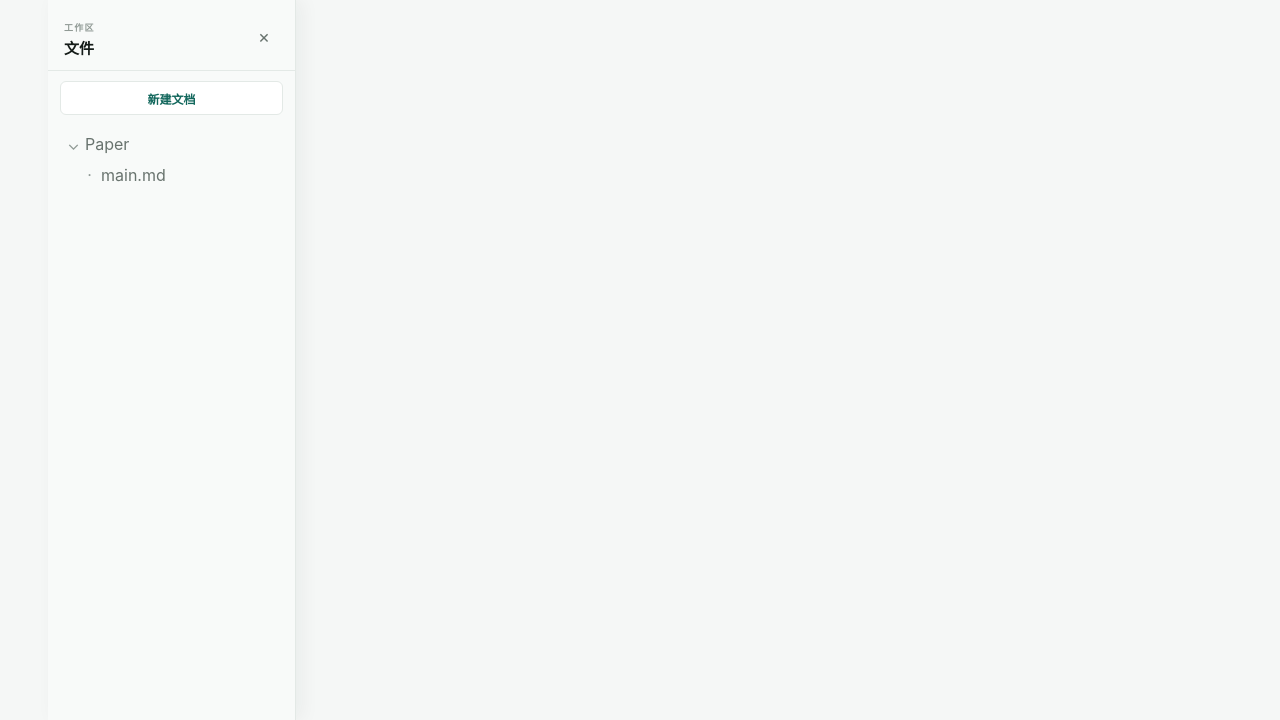
Test: file panel › validates new document paths before submitting
Click the button "新建文档": x=172, y=98 [60,81,283,115]
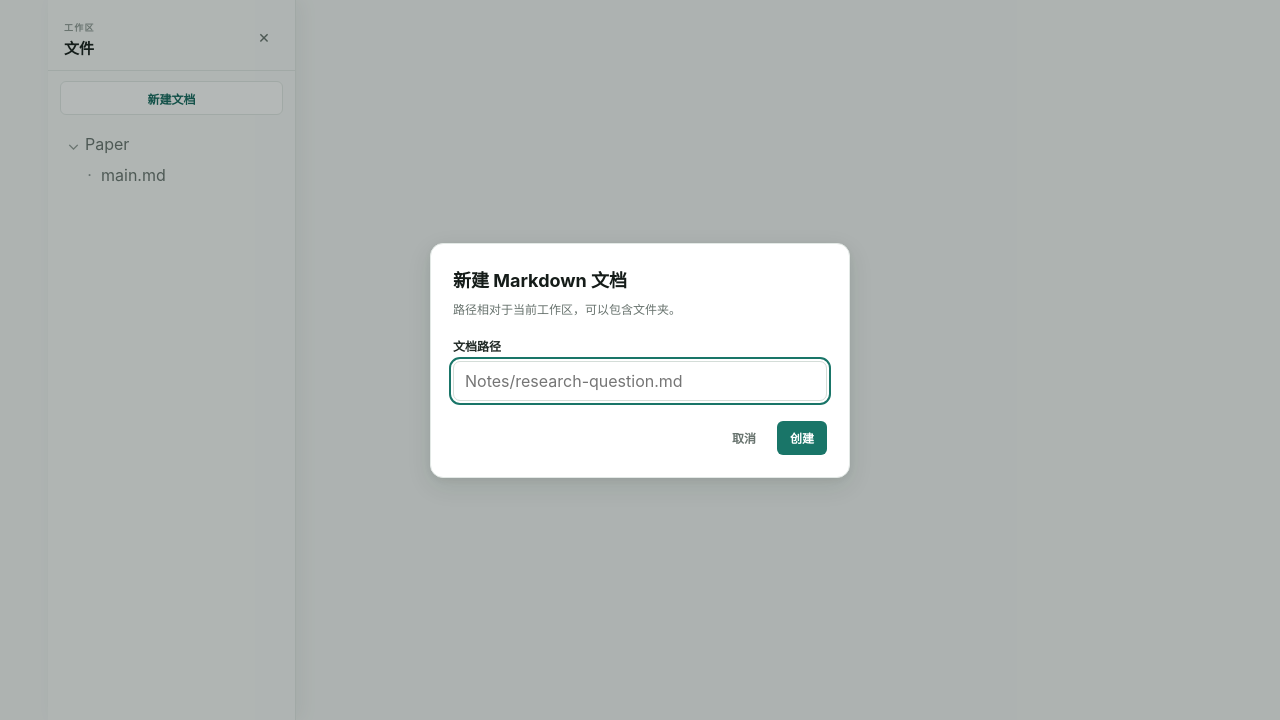
In the field labelled "文档路径": x=640, y=380 [453,360,827,400], type "../outside.md"
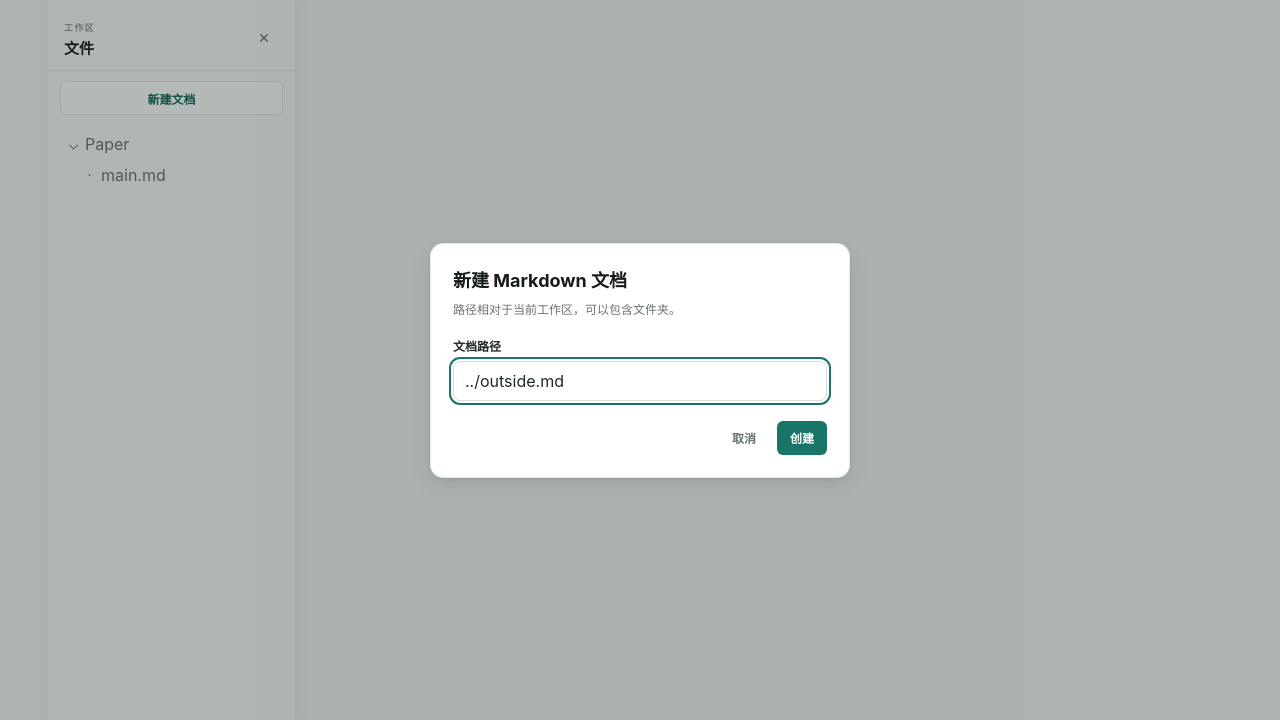
Click the button "创建": x=802, y=438 [777,420,827,454]
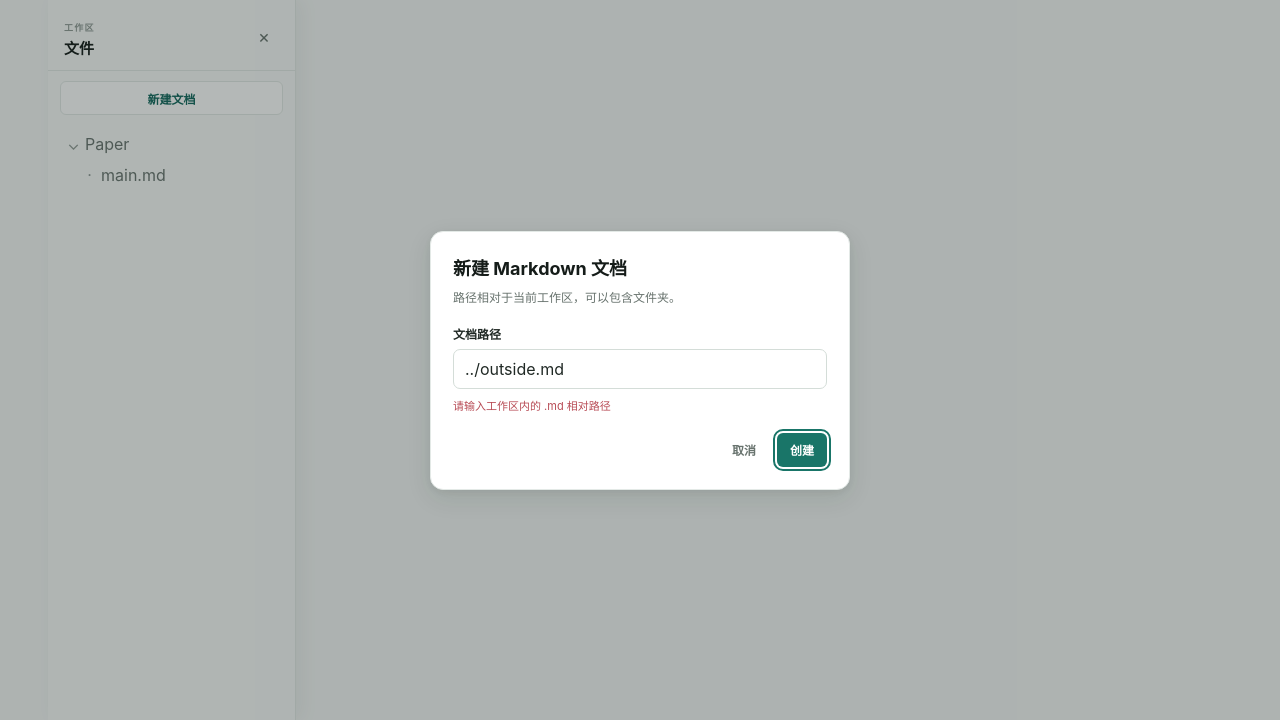
Check: the message reads "请输入工作区内的 .md 相对路径", box [453,398,611,412]
